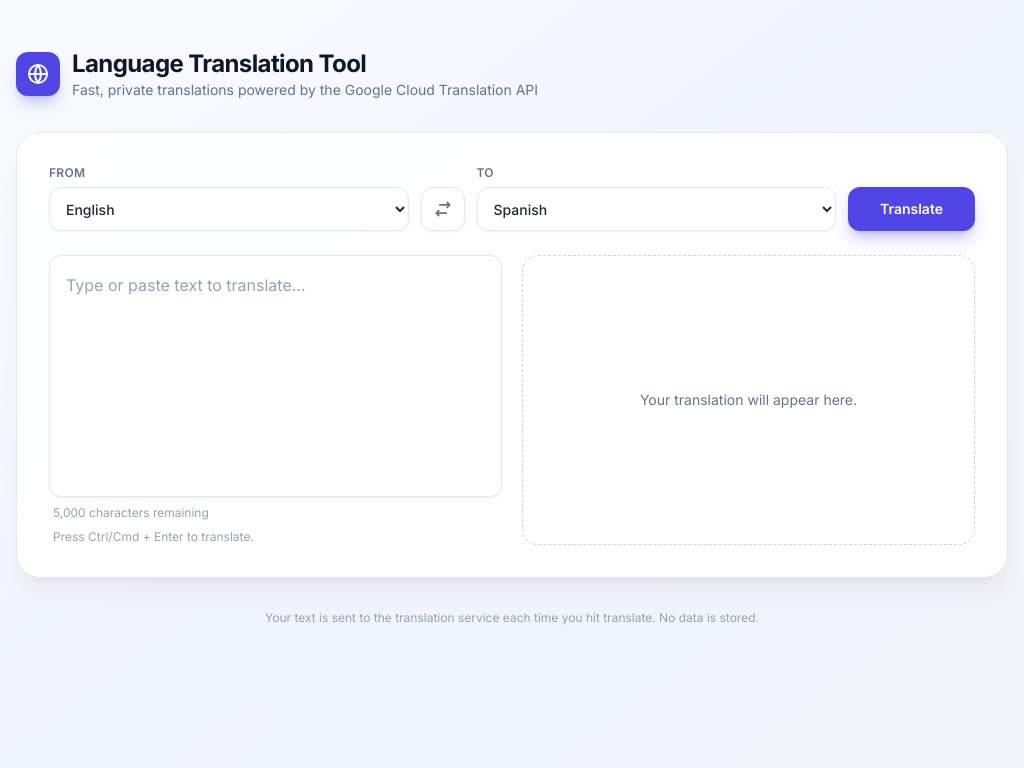
App › shows an error alert when submitting empty text
Click the button "Translate". click: (912, 209)
box: [848,187,975,231]
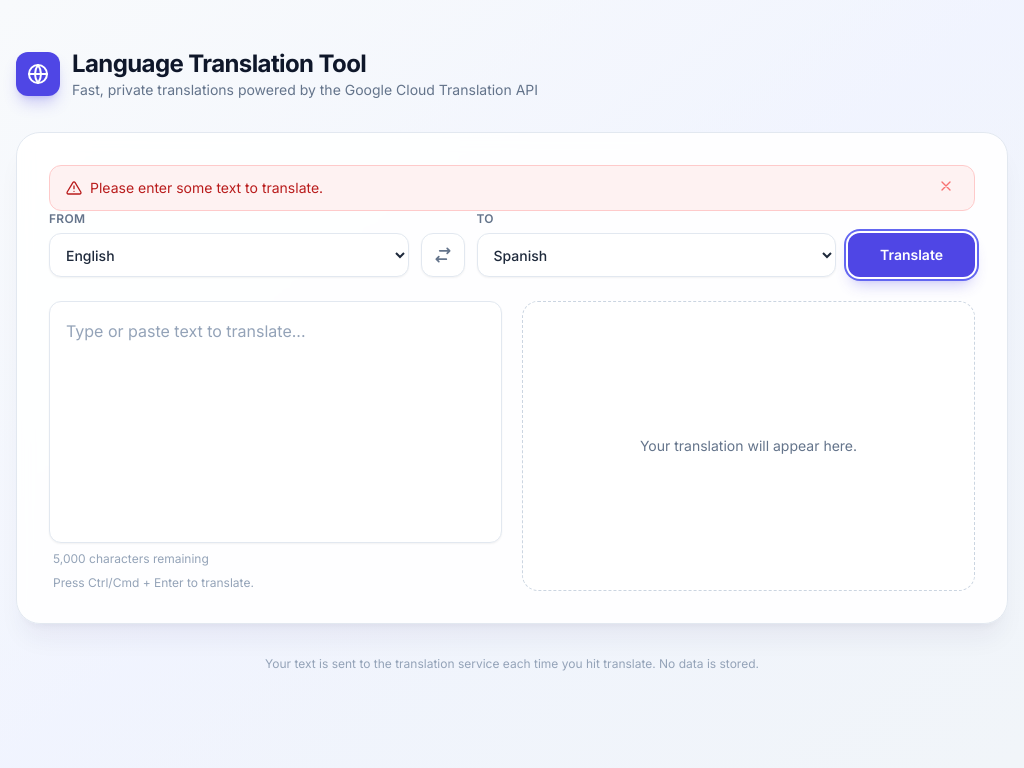
Now the message shows "enter some text to translate", box [90,179,323,196]
